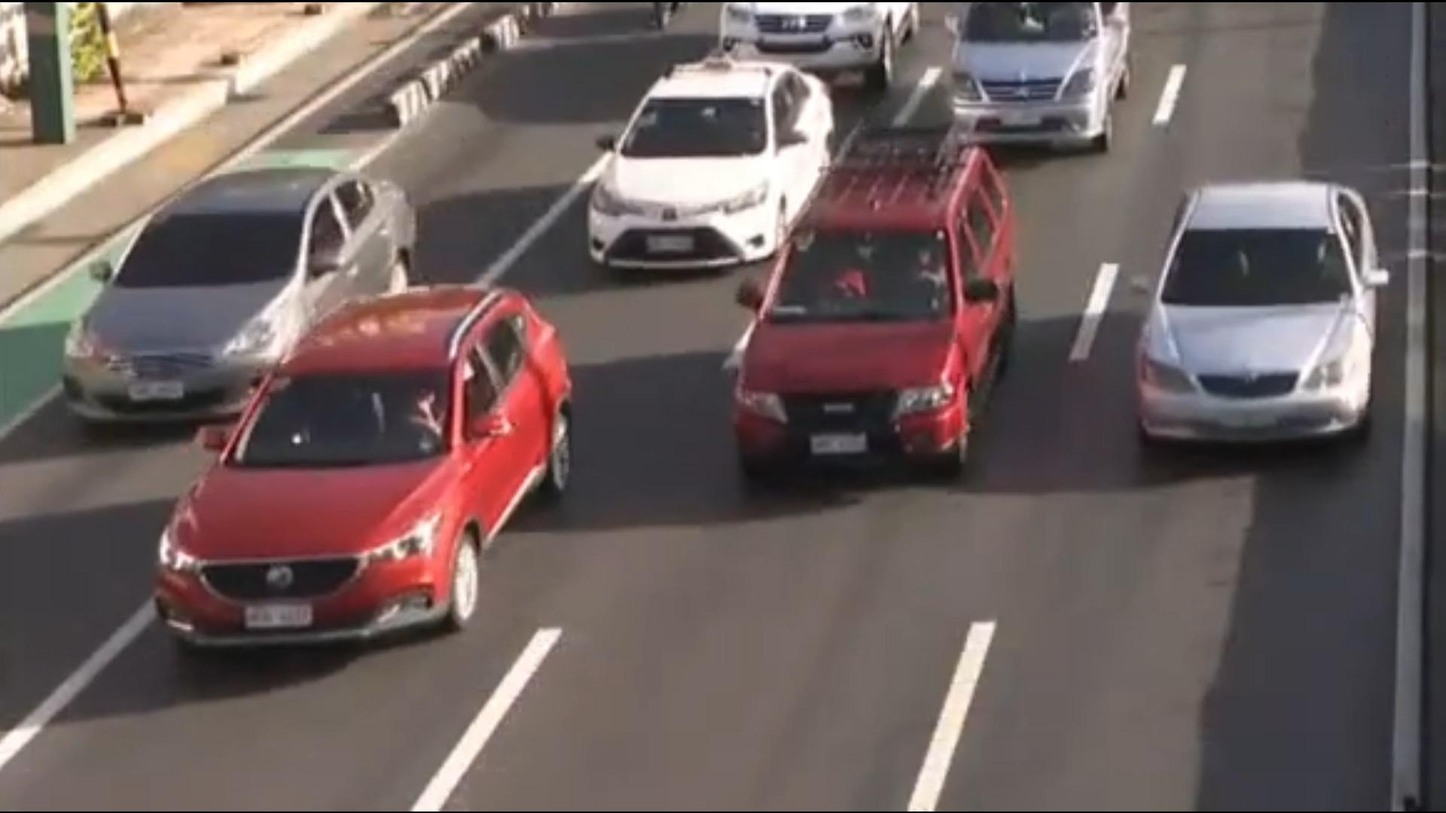SUV: (125, 288, 607, 678), (698, 111, 1043, 509), (930, 0, 1155, 157)
Sedan: (39, 157, 428, 437), (1090, 153, 1405, 479), (558, 54, 843, 307)
